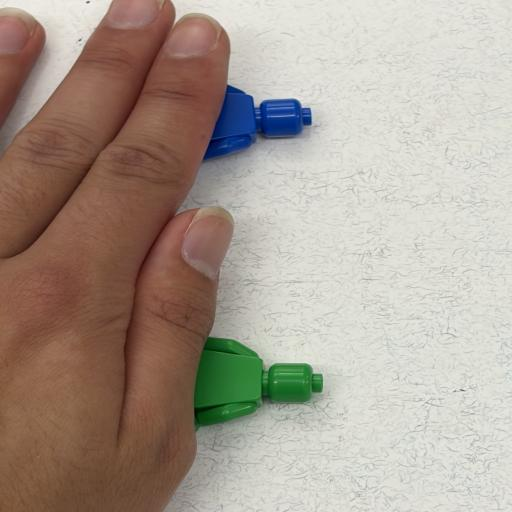Blue-Lego: (203, 85, 312, 160)
Green-Lego: (194, 337, 323, 432)
